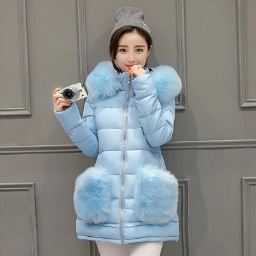face: (101, 13, 159, 77)
